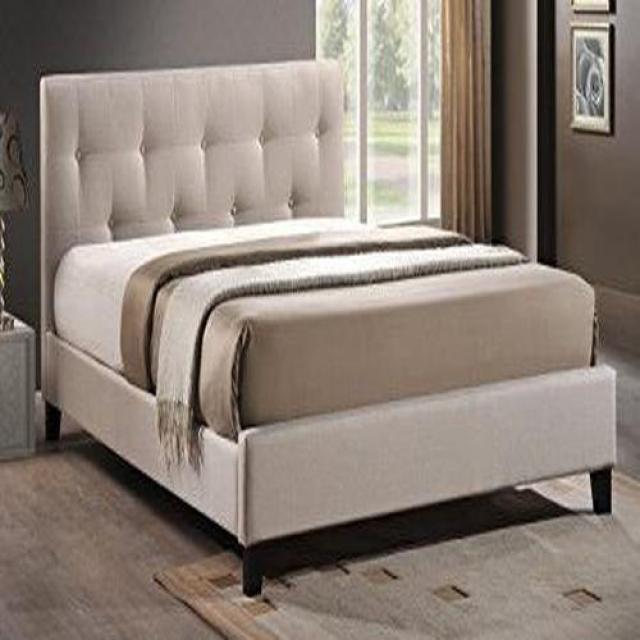bed: (36, 61, 618, 554)
